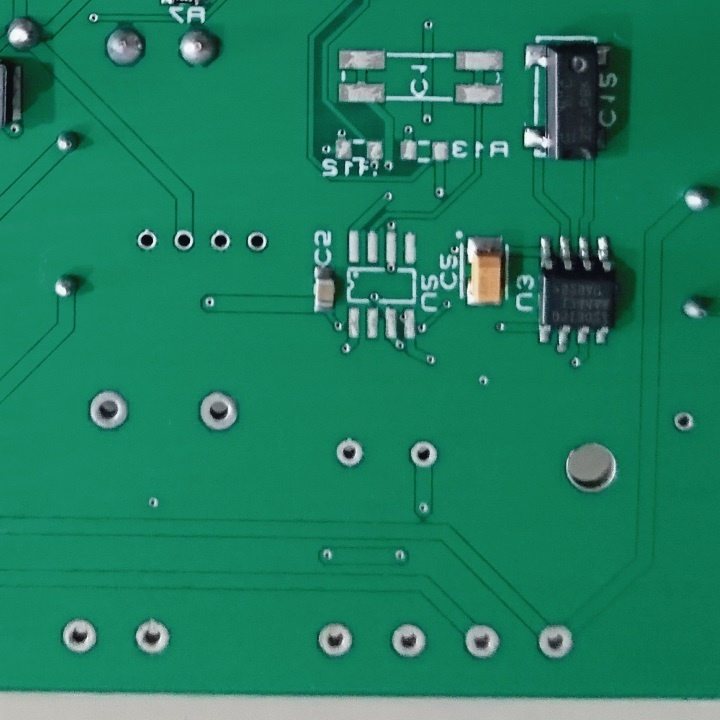F: (196, 386, 240, 434), (57, 613, 101, 657), (88, 386, 130, 432), (314, 618, 358, 659), (461, 620, 502, 663), (388, 620, 429, 660), (538, 620, 573, 666), (133, 615, 169, 659), (331, 433, 366, 470), (407, 438, 441, 472), (244, 228, 270, 258), (207, 227, 234, 253), (170, 228, 197, 253), (671, 408, 696, 433), (136, 226, 159, 252)
